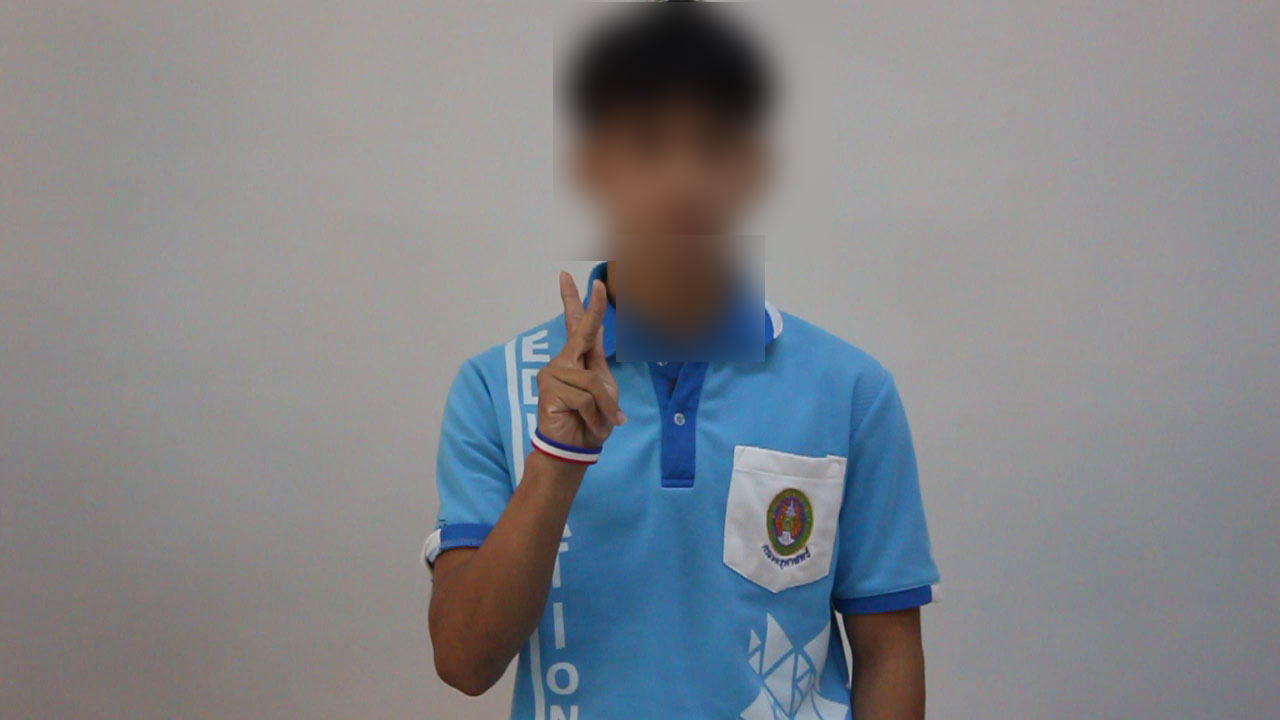ko: (523, 260, 646, 447)
